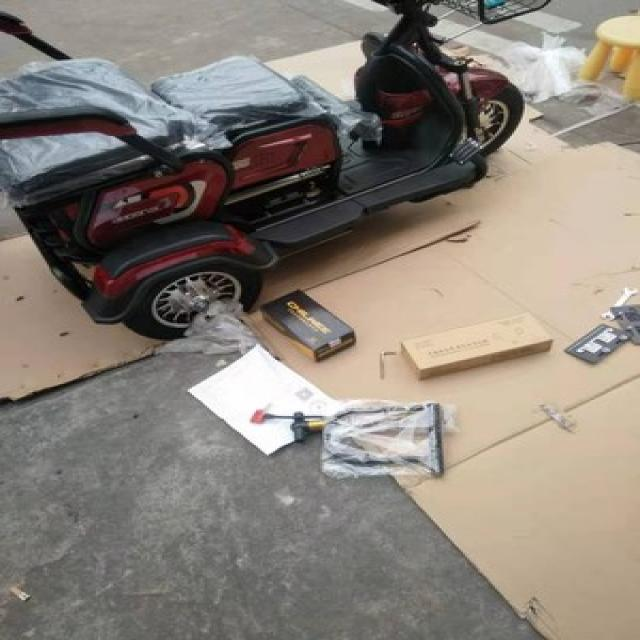tricycle: (0, 0, 553, 339)
